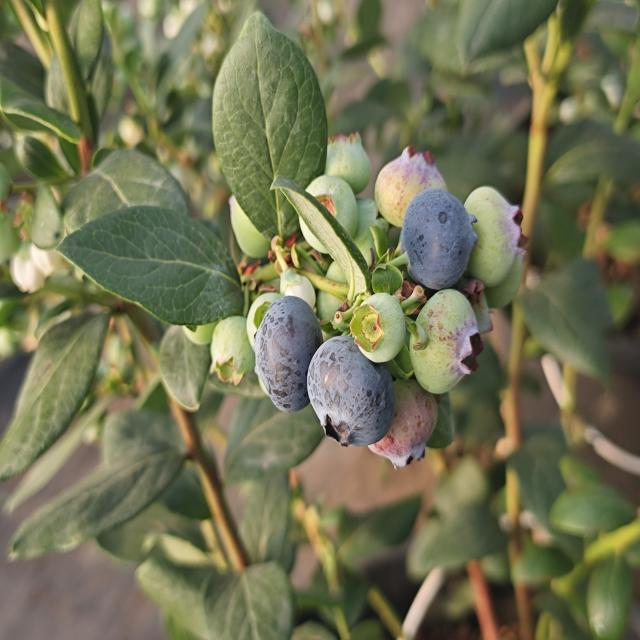ripe: (303, 333, 394, 450), (247, 289, 323, 417), (402, 189, 481, 289)
